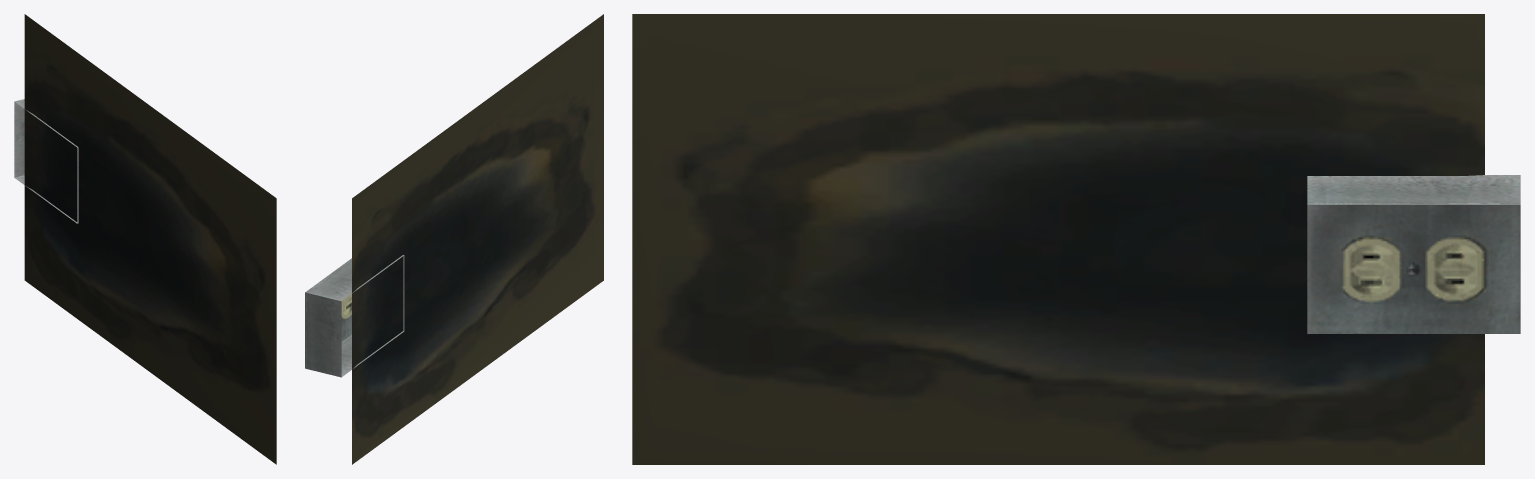
File: dest_electronic_outlet01_d0_LOD0.obj
The picture shows the model from 3 angles, left to right: view 1: azimuth 30°, elevation 25°; view 2: azimuth 150°, elevation 25°; view 3: azimuth 270°, elevation 25°; orthographic projection. The views are drawn at different scales.
Parts seen in each view (by area): view 1: mtl_dest_jun_wall_burnt, mtl_dest_jun_outlet03, mtl_dest_jun_outlet03_dmg; view 2: mtl_dest_jun_wall_burnt, mtl_dest_jun_outlet03, mtl_dest_jun_outlet03_dmg; view 3: mtl_dest_jun_wall_burnt, mtl_dest_jun_outlet03, mtl_dest_jun_outlet03_dmg.
Part boxes in pixels (x1=…): mtl_dest_jun_wall_burnt: x1=24, y1=14, x2=276, y2=464; mtl_dest_jun_outlet03: x1=14, y1=99, x2=78, y2=223; mtl_dest_jun_outlet03_dmg: x1=14, y1=99, x2=78, y2=223; mtl_dest_jun_wall_burnt: x1=352, y1=14, x2=603, y2=464; mtl_dest_jun_outlet03: x1=305, y1=255, x2=404, y2=377; mtl_dest_jun_outlet03_dmg: x1=306, y1=256, x2=404, y2=376; mtl_dest_jun_wall_burnt: x1=632, y1=14, x2=1484, y2=464; mtl_dest_jun_outlet03: x1=1307, y1=185, x2=1520, y2=333; mtl_dest_jun_outlet03_dmg: x1=1307, y1=175, x2=1520, y2=203.
Size of the model in its own units: 5.09 by 35.56 by 63.48.
